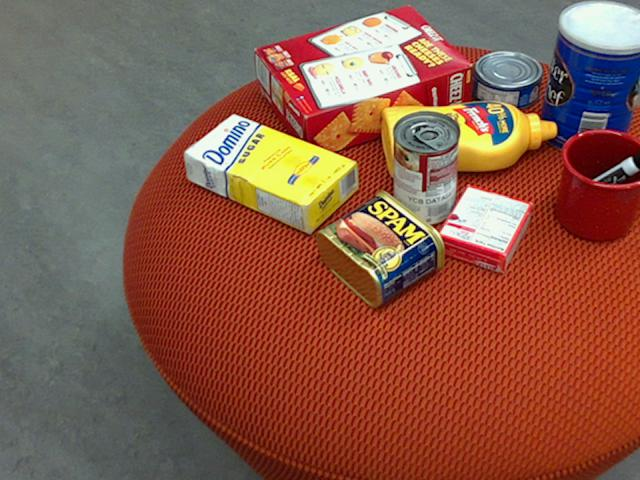cracker_box: (253, 5, 471, 159)
gelatin_box: (435, 185, 534, 275)
large_marker: (558, 149, 639, 212)
master_chef_can: (537, 0, 639, 156)
mug: (555, 128, 639, 241)
mustard_bottle: (381, 101, 556, 177)
potted_meat_can: (314, 189, 444, 307)
sugar_box: (181, 112, 356, 235)
tomato_soup_can: (391, 108, 459, 225)
tuna_fish_can: (469, 51, 541, 109)
